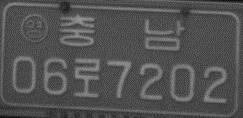0: (11, 54, 37, 94), (169, 63, 194, 101)
2: (203, 65, 228, 105), (138, 63, 163, 102)
6: (42, 56, 68, 97)
7: (105, 57, 131, 100)
로: (72, 57, 100, 98)
영: (20, 14, 50, 44)
충남_D: (59, 14, 184, 51)
